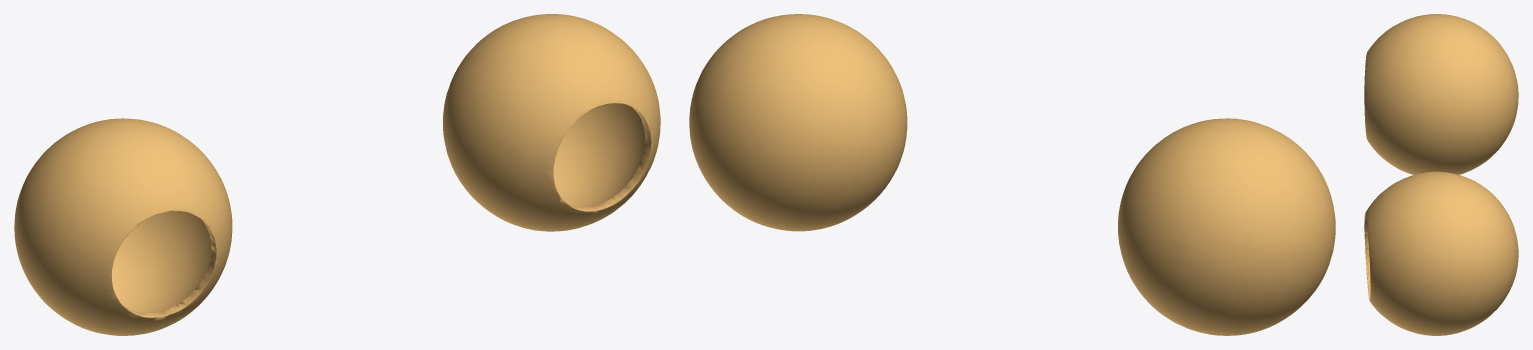
File: esclera.glb
The picture shows the model from 3 angles, left to right: view 1: azimuth 30°, elevation 25°; view 2: azimuth 150°, elevation 25°; view 3: azimuth 270°, elevation 25°; orthographic projection. The views are drawn at different scales.
Visible parts, largest first — view 1: esclera; view 2: esclera; view 3: esclera.
Boxes of the visible parts, x1,y1,x2,y2 form: esclera: (14,14,660,335); esclera: (689,14,1335,335); esclera: (1364,14,1518,335).
Size of the model in its own units: 0.0859 by 0.0262 by 0.0246.
